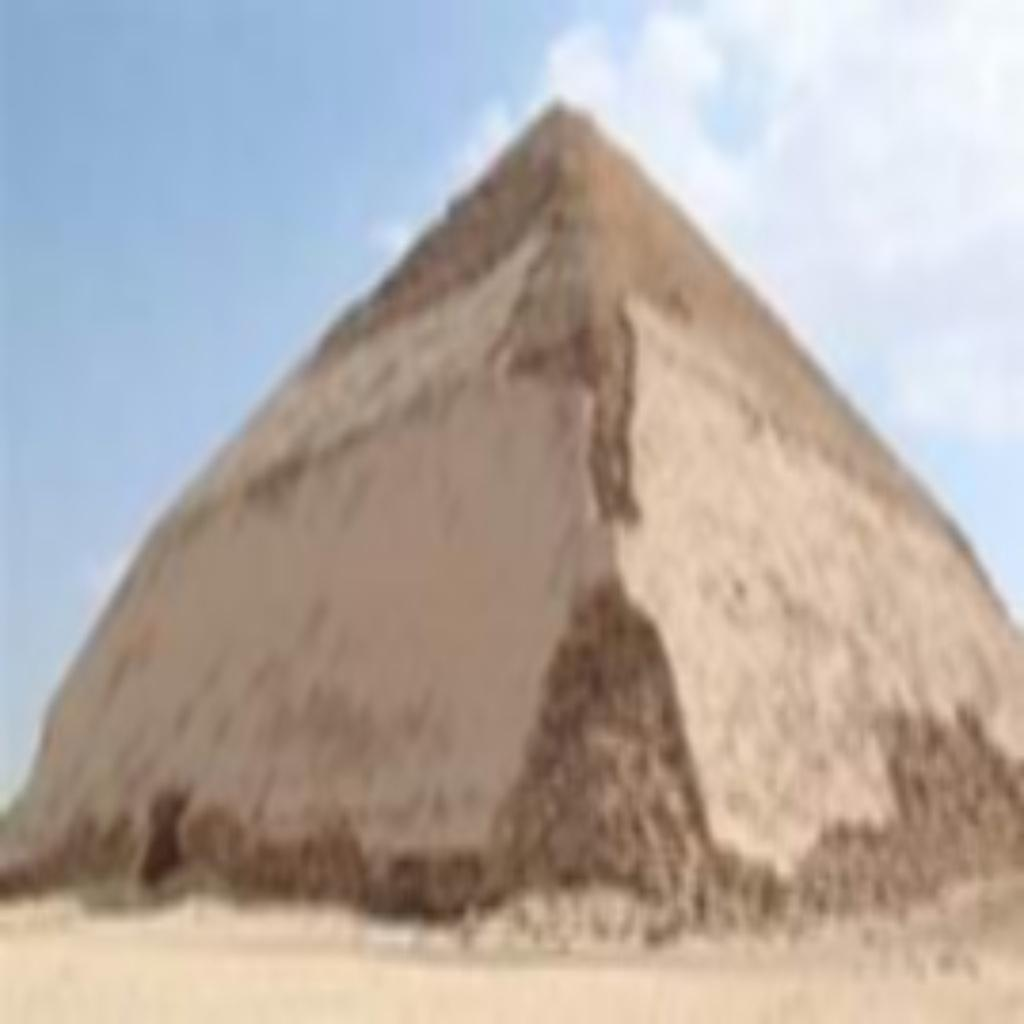Bent Pyramid of King Sneferu: (4, 88, 1016, 928)
